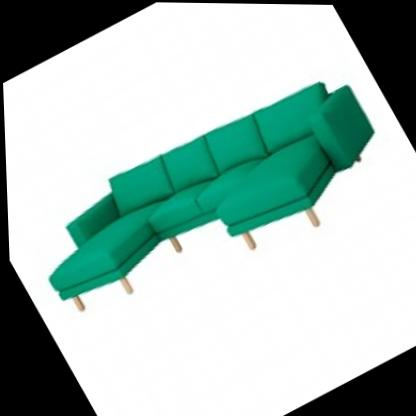Sofa: (1, 30, 415, 364)
